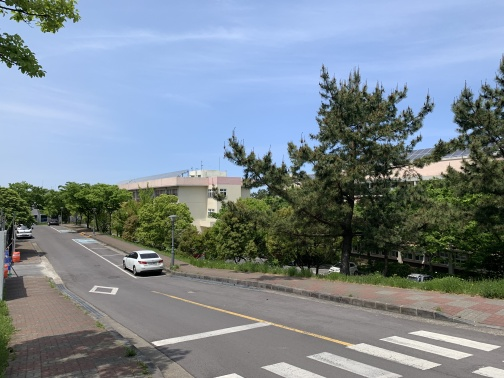College Of Education: (116, 151, 252, 233)
